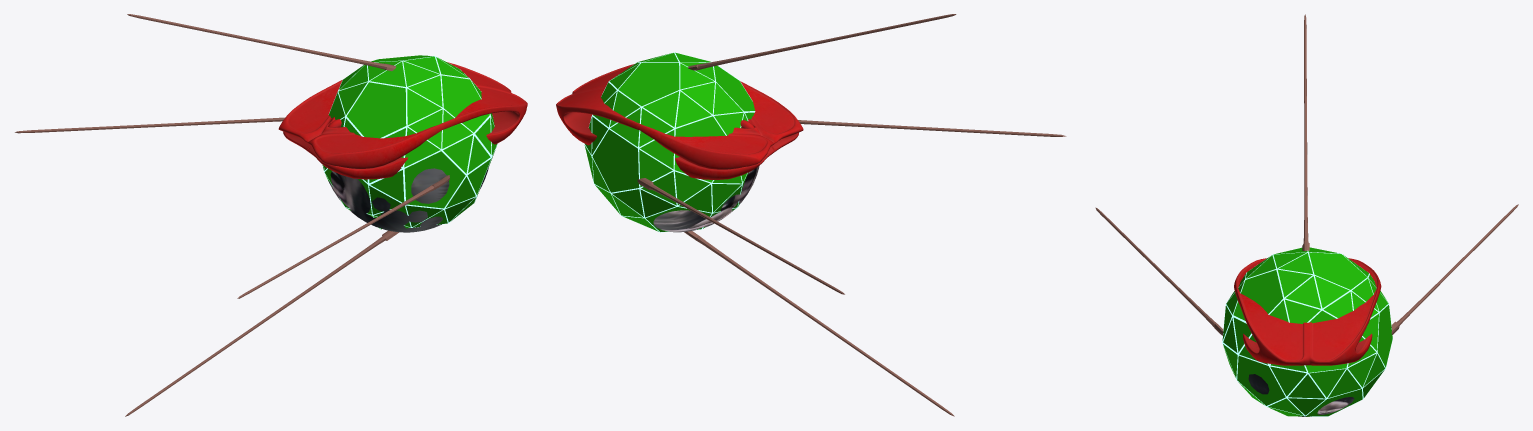
The model's file is allModels.gltf.
3 views of the same model, side by side, from view 1: azimuth 30°, elevation 25°; view 2: azimuth 150°, elevation 25°; view 3: azimuth 270°, elevation 25° (orthographic). The views are drawn at different scales.
Visible parts, largest first — view 1: dodecadron, moonRoketMaterial, Cube, ozzi; view 2: dodecadron, moonRoketMaterial, Cube, ozzi; view 3: dodecadron, moonRoketMaterial, Cube, ozzi.
Part boxes in pixels (bbox=[...]): dodecadron: bbox=[322, 55, 497, 229]; moonRoketMaterial: bbox=[278, 62, 527, 179]; Cube: bbox=[15, 14, 449, 416]; ozzi: bbox=[328, 166, 488, 232]; dodecadron: bbox=[584, 52, 755, 232]; moonRoketMaterial: bbox=[556, 64, 803, 179]; Cube: bbox=[637, 14, 1066, 416]; ozzi: bbox=[644, 166, 759, 232]; dodecadron: bbox=[1222, 247, 1392, 416]; moonRoketMaterial: bbox=[1234, 258, 1381, 365]; Cube: bbox=[1095, 14, 1518, 335]; ozzi: bbox=[1248, 374, 1354, 416].
Bounding box in the file's own units: 5.08 × 5.02 × 5.02.
Materials: 5 (2 with a texture image).
